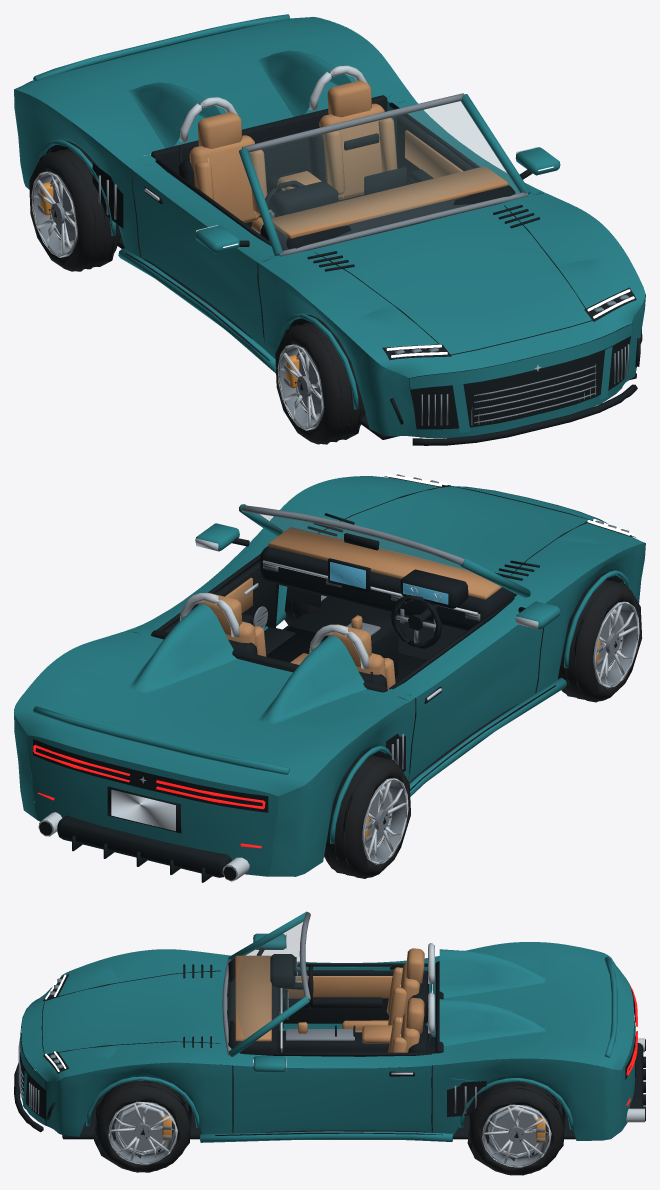
Rendered from AstraAurora-lod.glb.
The picture shows the model from 3 angles, top to bottom: view 1: azimuth 30°, elevation 25°; view 2: azimuth 150°, elevation 25°; view 3: azimuth 270°, elevation 25°; orthographic projection. The views are drawn at different scales.
Visible parts, largest first — view 1: body_group_upper, body_group_body, body_group_dark, body_group_glass, body_group_leather, driver_door_body, body_group_metal, wheel_rl_spin_rubber, wheel_fl_spin_rubber, driver_door_upper, wheel_fl_spin_metal, wheel_rl_spin_metal (+4 smaller); view 2: body_group_upper, body_group_body, body_group_dark, driver_door_body, body_group_leather, body_group_chrome, wheel_rl_spin_rubber, wheel_fl_spin_rubber, driver_door_upper, body_group_metal, wheel_fl_spin_metal, wheel_rl_spin_metal (+8 smaller); view 3: body_group_body, body_group_upper, body_group_dark, body_group_leather, body_group_glass, wheel_rr_spin_rubber, wheel_fr_spin_rubber, driver_door_dark, body_group_metal, wheel_rr_spin_metal, wheel_fr_spin_metal, driver_door_leather (+6 smaller).
Part boxes in pixels (box(x1,y1,x2,y2)): body_group_upper: box(14, 17, 645, 377); body_group_body: box(14, 14, 645, 438); body_group_dark: box(46, 95, 640, 445); body_group_glass: box(249, 101, 520, 250); body_group_leather: box(189, 80, 508, 238); driver_door_body: box(132, 170, 266, 350); body_group_metal: box(98, 93, 629, 425); wheel_rl_spin_rubber: box(29, 148, 120, 271); wheel_fl_spin_rubber: box(275, 322, 365, 444); driver_door_upper: box(133, 161, 274, 262); wheel_fl_spin_metal: box(279, 344, 324, 428); wheel_rl_spin_metal: box(32, 171, 77, 255); body_group_upper: box(14, 476, 644, 796); body_group_body: box(14, 478, 645, 876); body_group_dark: box(33, 476, 635, 882); driver_door_body: box(408, 601, 560, 782); body_group_leather: box(198, 527, 502, 696); body_group_chrome: box(38, 538, 477, 881); wheel_rl_spin_rubber: box(324, 755, 410, 878); wheel_fl_spin_rubber: box(558, 581, 641, 701); driver_door_upper: box(393, 595, 538, 697); body_group_metal: box(242, 505, 480, 769); wheel_fl_spin_metal: box(593, 601, 638, 687); wheel_rl_spin_metal: box(362, 778, 407, 863); body_group_body: box(20, 911, 635, 1142); body_group_upper: box(21, 942, 633, 1081); body_group_dark: box(14, 954, 645, 1139); body_group_leather: box(235, 948, 424, 1052); body_group_glass: box(227, 919, 304, 1043); wheel_rr_spin_rubber: box(469, 1081, 564, 1175); wheel_fr_spin_rubber: box(95, 1080, 190, 1172); driver_door_dark: box(257, 948, 432, 1023); body_group_metal: box(18, 912, 476, 1114); wheel_rr_spin_metal: box(483, 1104, 549, 1166); wheel_fr_spin_metal: box(110, 1101, 176, 1163); driver_door_leather: box(284, 976, 392, 998).
Bounding box in the file's own units: 2.31 × 1.34 × 4.63.
